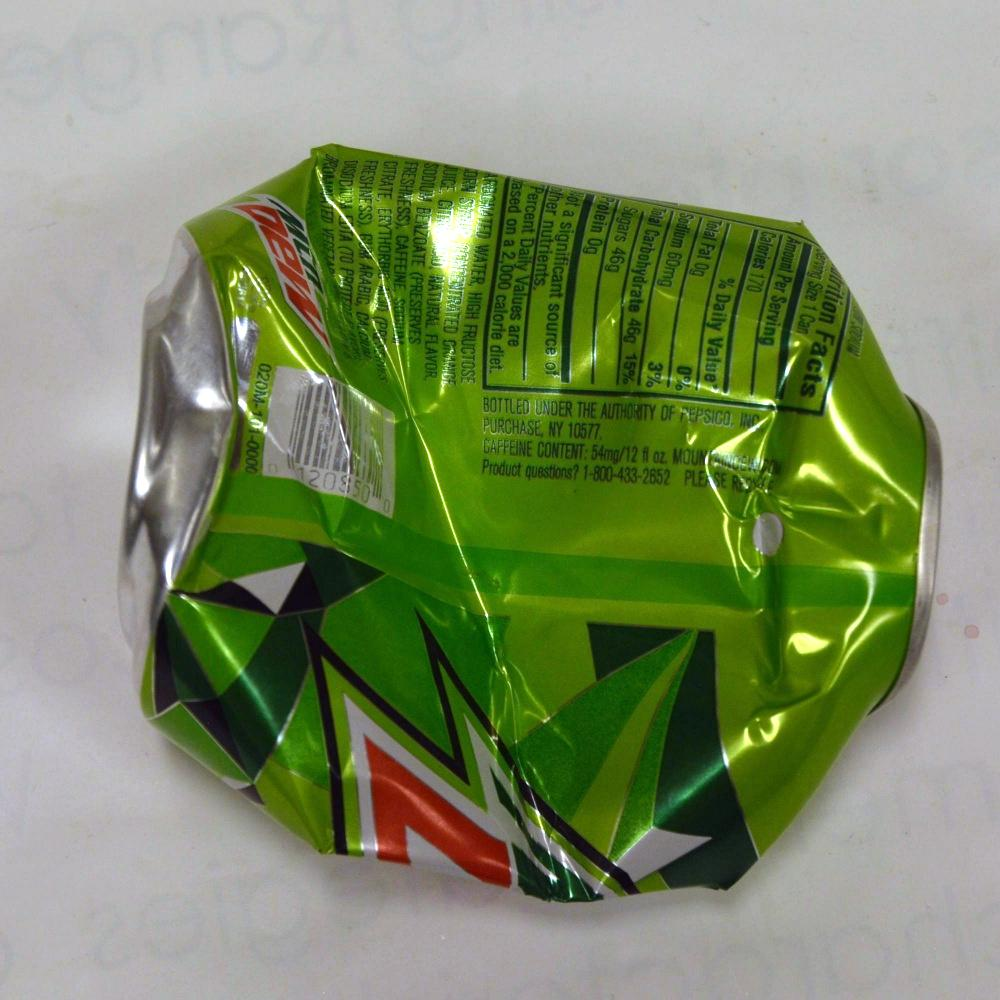Metal: (91, 102, 891, 907)
